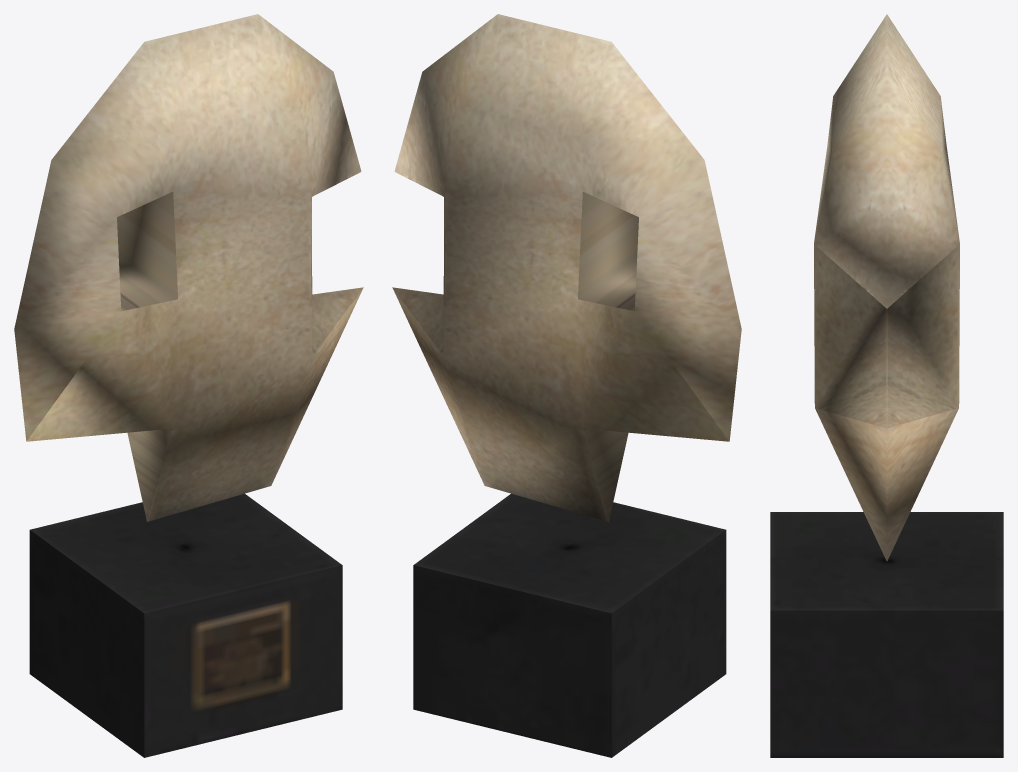
Rendered from dub_decorative_statue1_lod2.glb.
The picture shows the model from 3 angles, left to right: view 1: azimuth 30°, elevation 25°; view 2: azimuth 150°, elevation 25°; view 3: azimuth 270°, elevation 25°; orthographic projection. The views are drawn at different scales.
Visible parts, largest first — view 1: surf0, surf1; view 2: surf0, surf1; view 3: surf0, surf1.
Boxes of the visible parts, x1=… form: surf0: x1=14, y1=14, x2=363, y2=521; surf1: x1=29, y1=493, x2=342, y2=757; surf0: x1=392, y1=14, x2=741, y2=521; surf1: x1=413, y1=493, x2=726, y2=757; surf0: x1=814, y1=14, x2=959, y2=561; surf1: x1=770, y1=512, x2=1003, y2=757.
Bounding box in the file's own units: 16.65 × 30.06 × 9.44.
